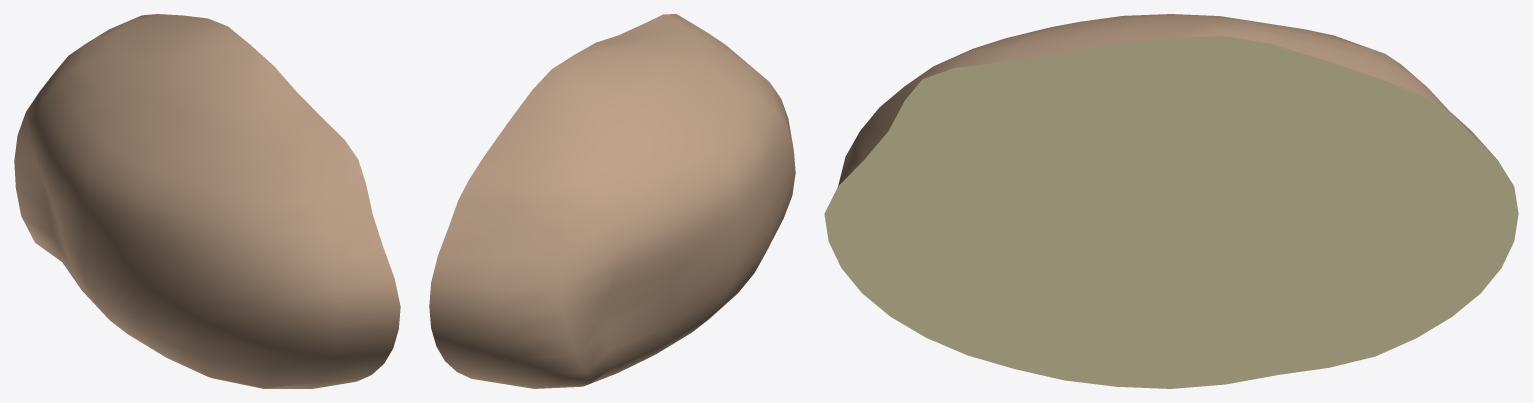
Rendered from potato_left.fbx.
3 views of the same model, side by side, from view 1: azimuth 30°, elevation 25°; view 2: azimuth 150°, elevation 25°; view 3: azimuth 270°, elevation 25° (orthographic). The views are drawn at different scales.
Parts seen in each view (by area): view 1: pasted__polySurface1; view 2: pasted__polySurface1; view 3: pasted__polySurface1.
Boxes of the visible parts, box(x1,y1,x2,y2) form: pasted__polySurface1: box(14, 14, 400, 388); pasted__polySurface1: box(429, 14, 795, 388); pasted__polySurface1: box(824, 14, 1518, 388).
Bounding box in the file's own units: 1.36 × 2.33 × 4.15.
